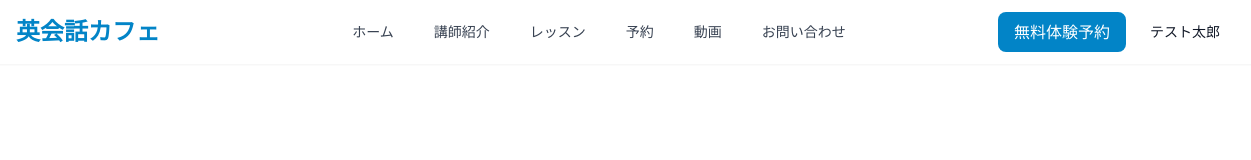
Header dropdown › opens when the user button is clicked
This screenshot has width=1251, height=160.
Click the button "テスト太郎" at (1185, 32), box [1138,14,1232,50]
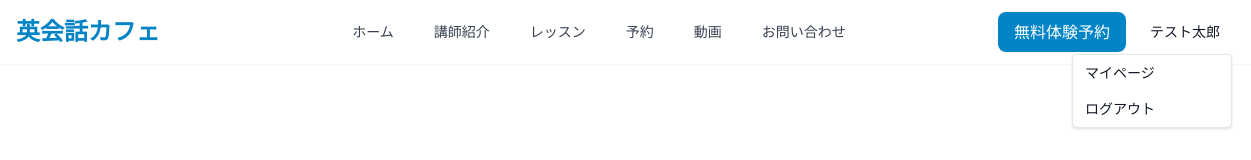
expect the link "マイページ" is shown: met, box [1085,64,1155,81]
